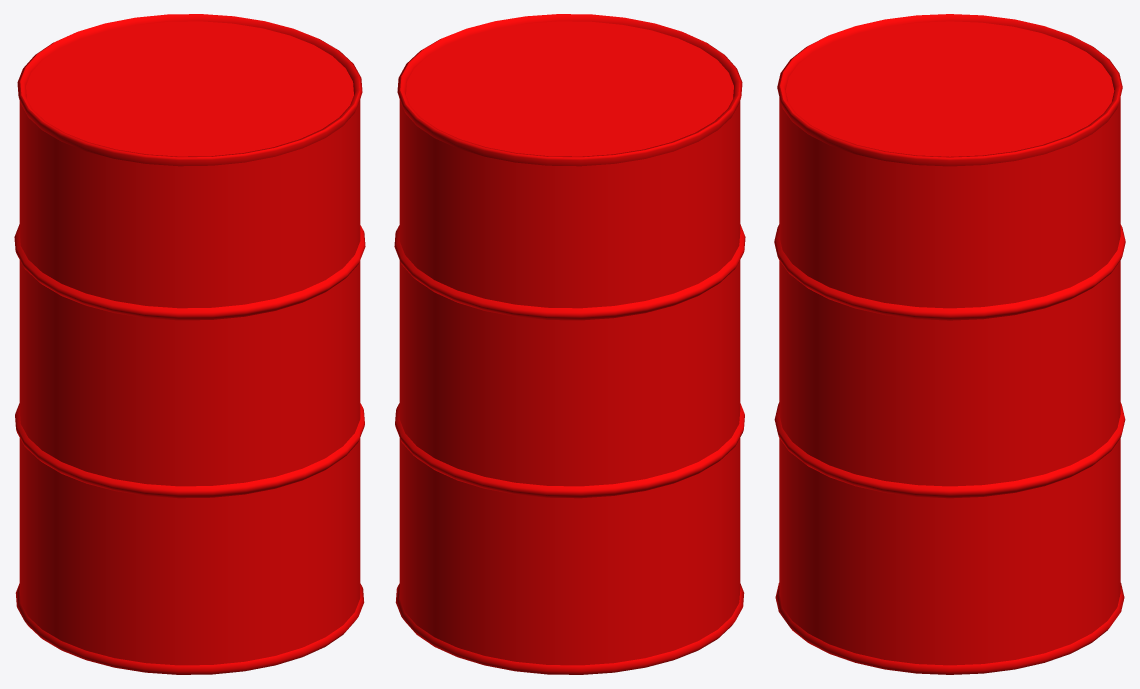
File: Barrel.fbx
3 views of the same model, side by side, from view 1: azimuth 30°, elevation 25°; view 2: azimuth 150°, elevation 25°; view 3: azimuth 270°, elevation 25° (orthographic).
Visible parts, largest first — view 1: Barrel_lp; view 2: Barrel_lp; view 3: Barrel_lp.
Part boxes in pixels (<box>): Barrel_lp: <box>14,14,365,674</box>; Barrel_lp: <box>394,14,745,674</box>; Barrel_lp: <box>774,14,1125,674</box>.
Size of the model in its own units: 124 by 201 by 124.
